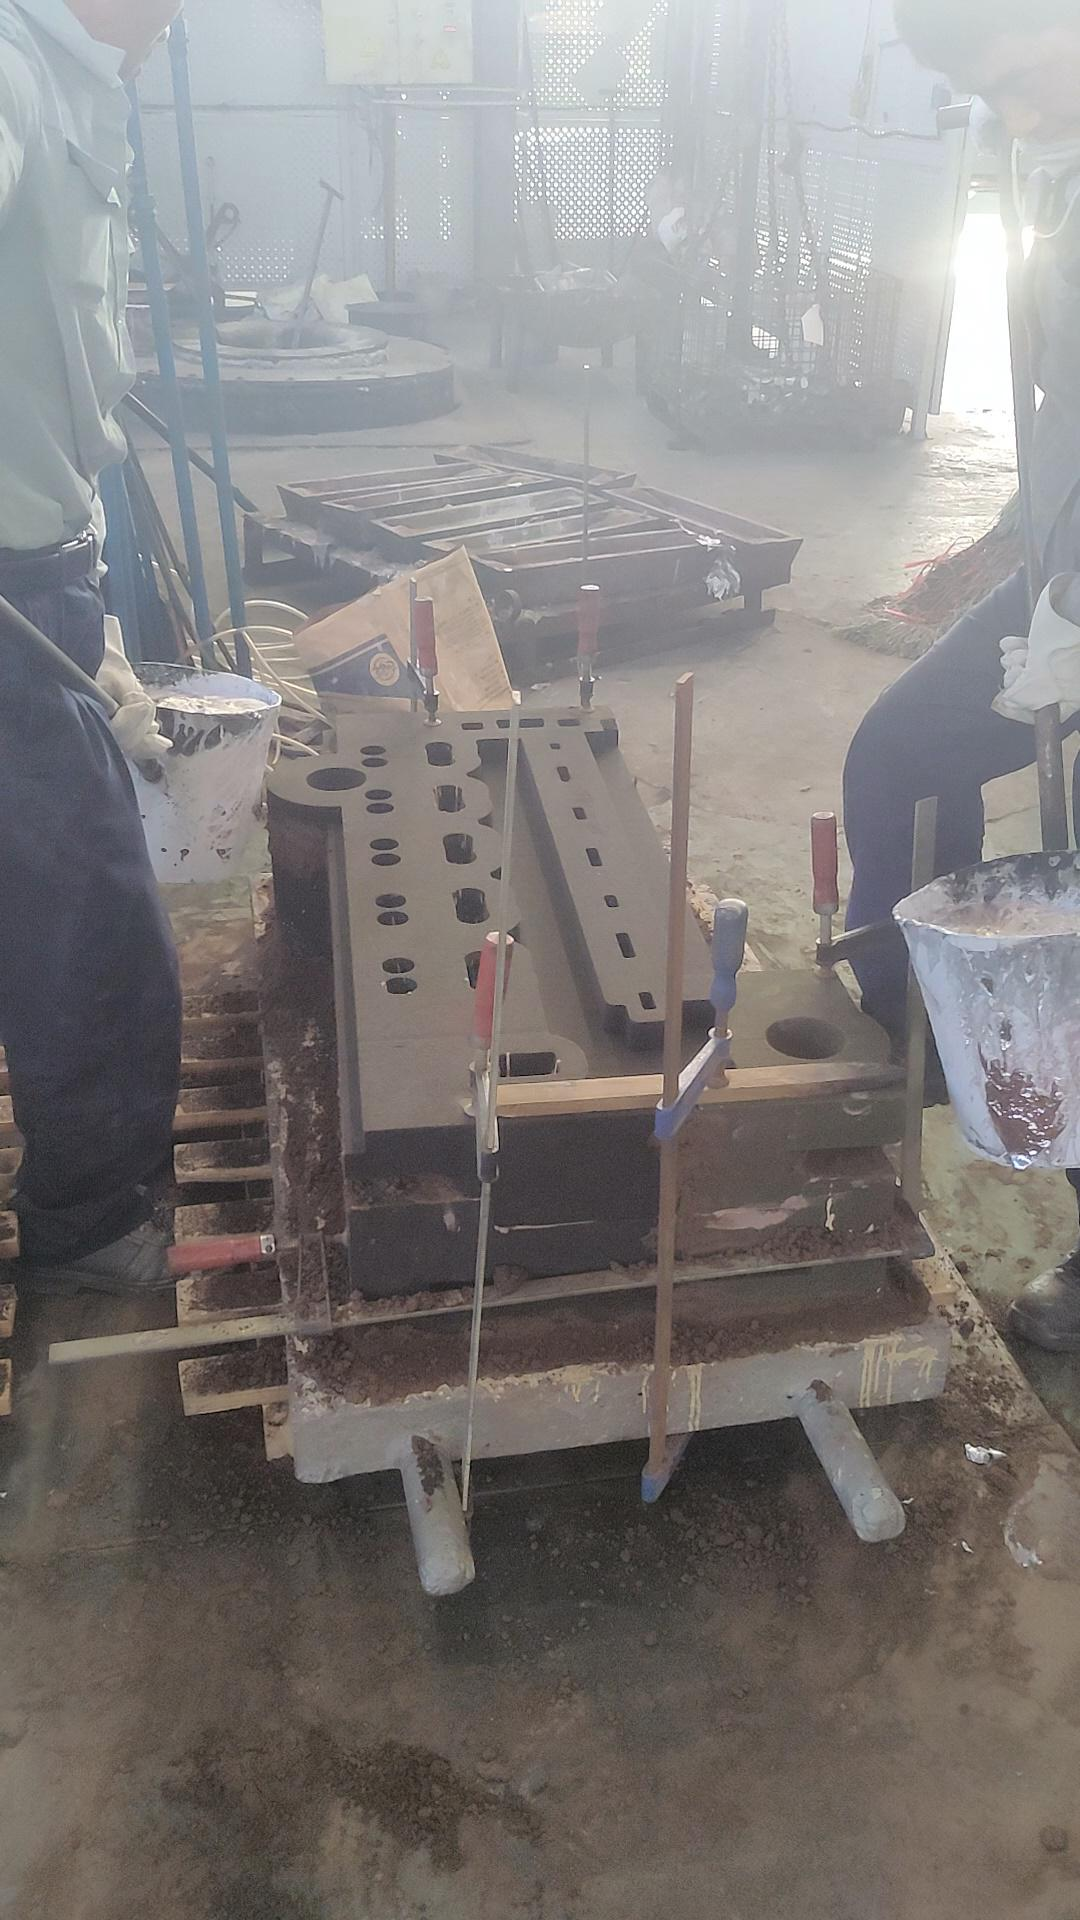pouring hole: (764, 1017, 847, 1062), (305, 766, 368, 791)
